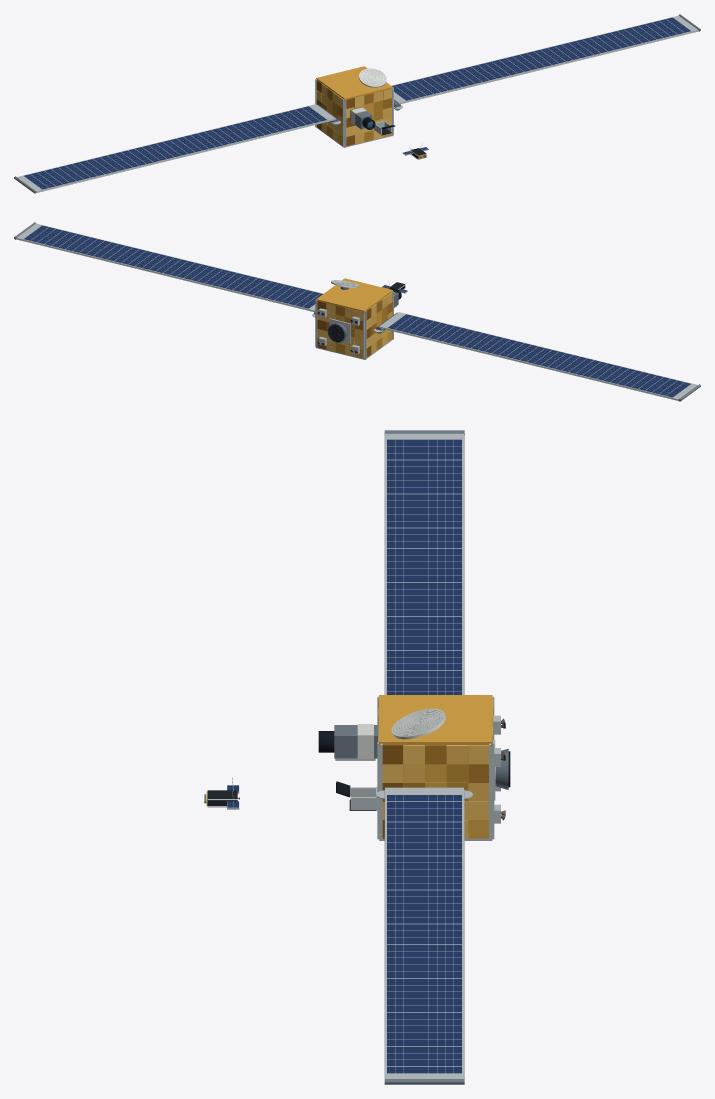
The model's file is dart_liciacube_separation.glb.
3 views of the same model, one above another, from view 1: azimuth 30°, elevation 25°; view 2: azimuth 150°, elevation 25°; view 3: azimuth 270°, elevation 25° (orthographic). The views are drawn at different scales.
Parts seen in each view (by area): view 1: dart_rosa_l.deployment.blanket.cells.mesh_Indigo_solar_cells, dart_rosa_r.deployment.blanket.cells.mesh_Indigo_solar_cells, dart_rosa_l.deployment.blanket.cells.mesh_Satin_aluminum, dart_rosa_r.deployment.blanket.cells.mesh_Satin_aluminum, dart_bus.mesh_Gold_thermal_insulation, dart_bus.blanket_01.mesh_Foil_facet_4, dart_rlsa.azimuth.elevation.mesh_Pale_thermal_blanket, dart_rosa_l.deployment.blanket.mesh_Satin_aluminum, dart_rosa_r.deployment.blanket.mesh_Satin_aluminum, dart_bus.blanket_04.mesh_Foil_facet_4, dart_bus.blanket_01.mesh_Foil_facet_6; view 2: dart_rosa_l.deployment.blanket.cells.mesh_Indigo_solar_cells, dart_rosa_r.deployment.blanket.cells.mesh_Indigo_solar_cells, dart_rosa_l.deployment.blanket.cells.mesh_Satin_aluminum, dart_rosa_r.deployment.blanket.cells.mesh_Satin_aluminum, dart_bus.mesh_Gold_thermal_insulation, dart_bus.blanket_03.mesh_Foil_facet_4, dart_rosa_l.deployment.blanket.mesh_Satin_aluminum, dart_rosa_r.deployment.blanket.mesh_Satin_aluminum, dart_bus.blanket_04.mesh_Foil_facet_4, dart_bus.blanket_03.mesh_Foil_facet_6; view 3: dart_rosa_r.deployment.blanket.cells.mesh_Indigo_solar_cells, dart_rosa_l.deployment.blanket.cells.mesh_Indigo_solar_cells, dart_rosa_r.deployment.blanket.cells.mesh_Satin_aluminum, dart_rosa_l.deployment.blanket.cells.mesh_Satin_aluminum, dart_bus.mesh_Gold_thermal_insulation, dart_bus.blanket_02.mesh_Foil_facet_4, dart_bus.blanket_02.mesh_Foil_facet_6, dart_rlsa.azimuth.elevation.mesh_Pale_thermal_blanket.
Part boxes in pixels (x1,y1,x2,y2): dart_rosa_l.deployment.blanket.cells.mesh_Indigo_solar_cells: (24, 106, 326, 189); dart_rosa_r.deployment.blanket.cells.mesh_Indigo_solar_cells: (392, 17, 690, 100); dart_rosa_l.deployment.blanket.cells.mesh_Satin_aluminum: (17, 104, 335, 192); dart_rosa_r.deployment.blanket.cells.mesh_Satin_aluminum: (391, 15, 698, 103); dart_bus.mesh_Gold_thermal_insulation: (316, 66, 392, 101); dart_bus.blanket_01.mesh_Foil_facet_4: (346, 89, 391, 139); dart_rlsa.azimuth.elevation.mesh_Pale_thermal_blanket: (359, 68, 386, 87); dart_rosa_l.deployment.blanket.mesh_Satin_aluminum: (36, 119, 335, 192); dart_rosa_r.deployment.blanket.mesh_Satin_aluminum: (399, 31, 698, 104); dart_bus.blanket_04.mesh_Foil_facet_4: (316, 84, 342, 141); dart_bus.blanket_01.mesh_Foil_facet_6: (354, 91, 391, 144); dart_rosa_l.deployment.blanket.cells.mesh_Indigo_solar_cells: (388, 314, 690, 397); dart_rosa_r.deployment.blanket.cells.mesh_Indigo_solar_cells: (24, 225, 322, 308); dart_rosa_l.deployment.blanket.cells.mesh_Satin_aluminum: (379, 312, 697, 400); dart_rosa_r.deployment.blanket.cells.mesh_Satin_aluminum: (16, 223, 323, 311); dart_bus.mesh_Gold_thermal_insulation: (316, 278, 392, 313); dart_bus.blanket_03.mesh_Foil_facet_4: (317, 303, 362, 356); dart_rosa_l.deployment.blanket.mesh_Satin_aluminum: (379, 327, 678, 400); dart_rosa_r.deployment.blanket.mesh_Satin_aluminum: (16, 239, 314, 312); dart_bus.blanket_04.mesh_Foil_facet_4: (366, 292, 392, 348); dart_bus.blanket_03.mesh_Foil_facet_6: (326, 307, 362, 351); dart_rosa_r.deployment.blanket.cells.mesh_Indigo_solar_cells: (387, 795, 461, 1073); dart_rosa_l.deployment.blanket.cells.mesh_Indigo_solar_cells: (387, 439, 461, 694); dart_rosa_r.deployment.blanket.cells.mesh_Satin_aluminum: (385, 787, 463, 1078); dart_rosa_l.deployment.blanket.cells.mesh_Satin_aluminum: (385, 433, 463, 694); dart_bus.mesh_Gold_thermal_insulation: (379, 695, 492, 833); dart_bus.blanket_02.mesh_Foil_facet_4: (382, 745, 488, 838); dart_bus.blanket_02.mesh_Foil_facet_6: (403, 745, 488, 801); dart_rlsa.azimuth.elevation.mesh_Pale_thermal_blanket: (391, 708, 446, 739).
Size of the model in its own units: 17.71 by 1.49 by 3.52.
